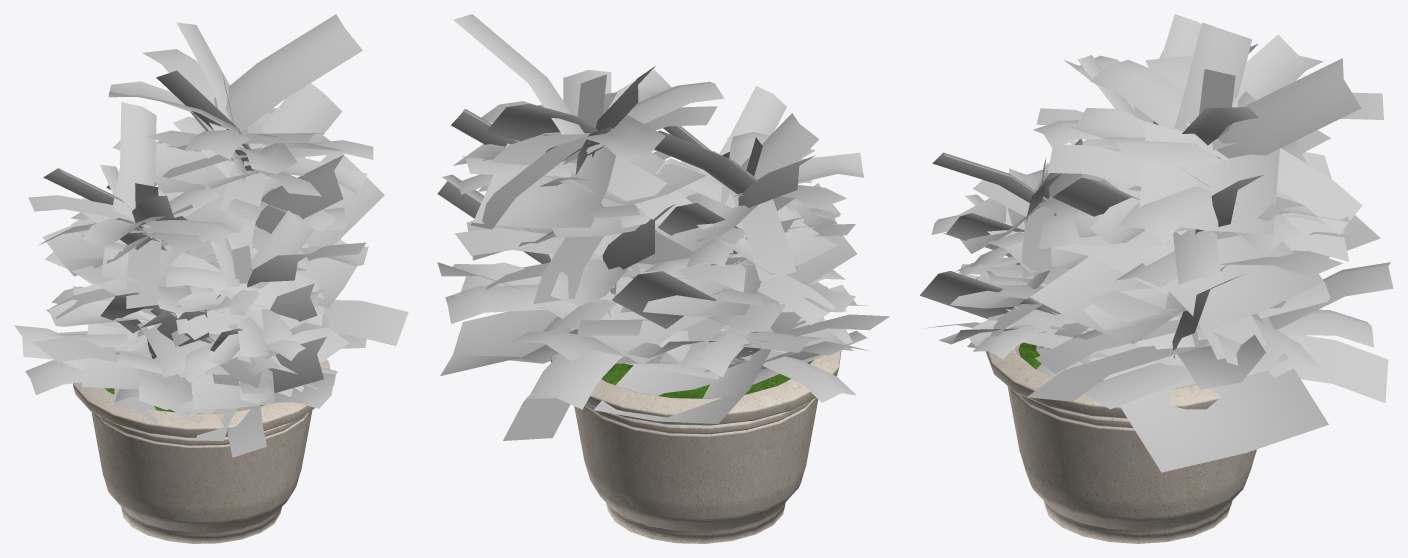
File: chaucay_1.fbx
3 views of the same model, side by side, from view 1: azimuth 30°, elevation 25°; view 2: azimuth 150°, elevation 25°; view 3: azimuth 270°, elevation 25° (orthographic). The views are drawn at different scales.
Parts seen in each view (by area): view 1: chaucay_A; view 2: chaucay_A; view 3: chaucay_A.
Part boxes in pixels (x1,y1,x2,y2): chaucay_A: (14,14,408,543); chaucay_A: (437,14,889,543); chaucay_A: (920,14,1393,543).
Size of the model in its own units: 65.24 by 70.26 by 60.6.
